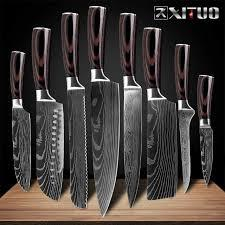knives: (57, 9, 154, 206)
